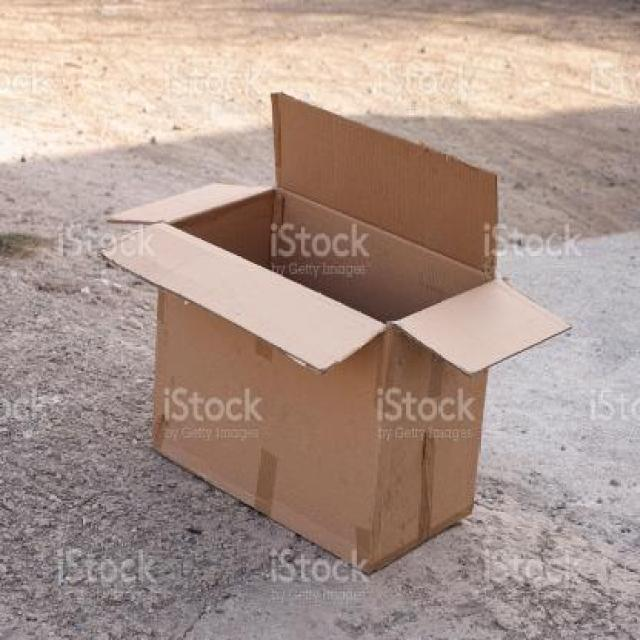box: (95, 93, 580, 581)
